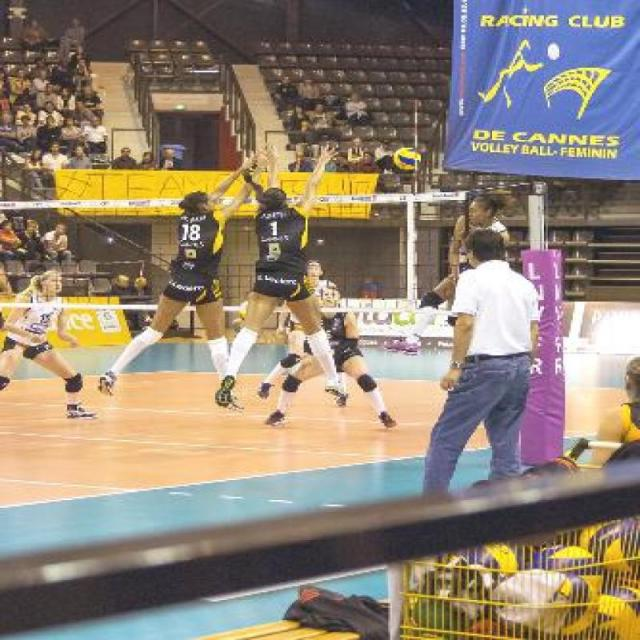volleyball: (386, 145, 429, 170)
